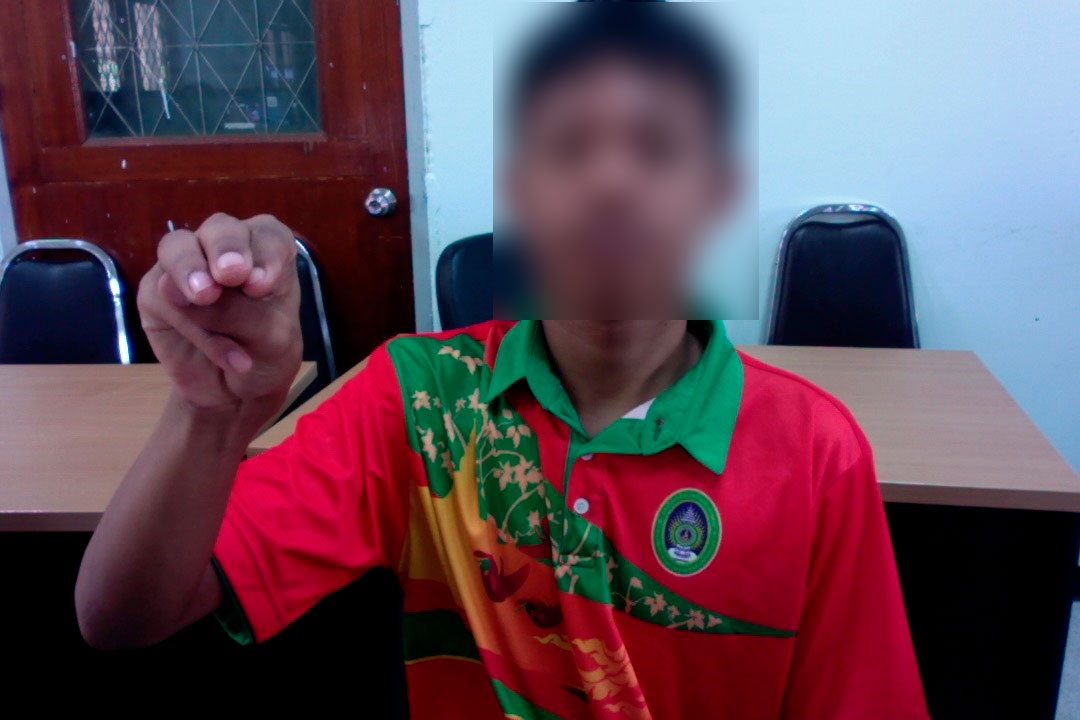mor: (128, 200, 313, 424)
